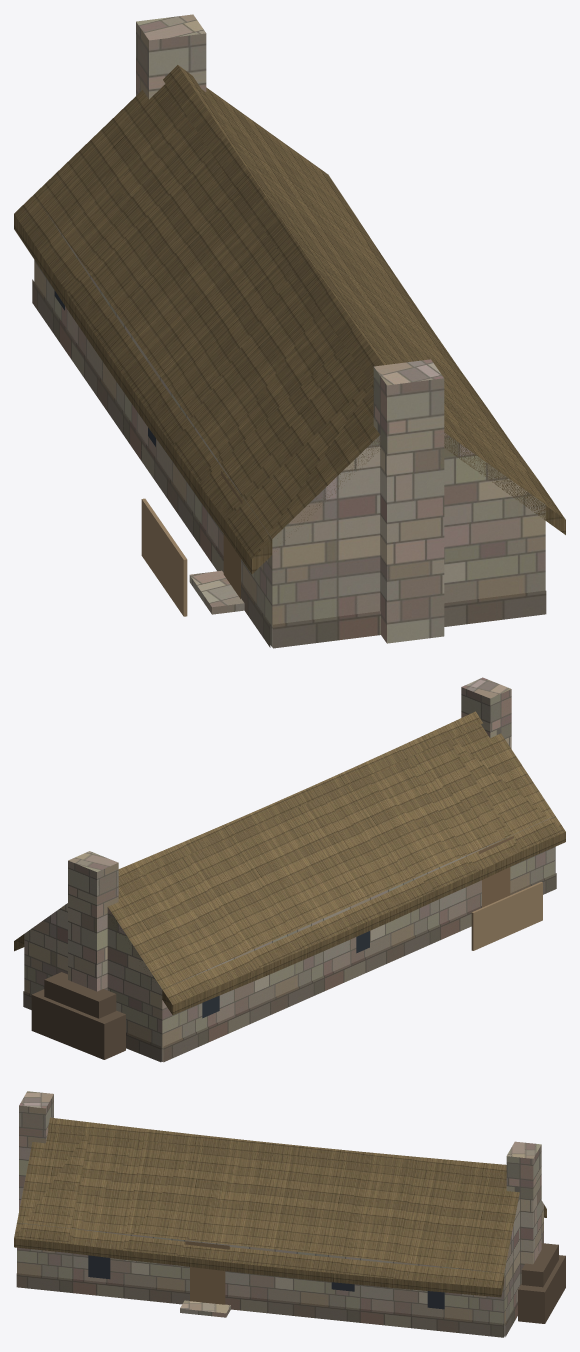
3 renders of one model, top to bottom at view 1: azimuth 30°, elevation 25°; view 2: azimuth 150°, elevation 25°; view 3: azimuth 270°, elevation 25°, orthographic. The views are drawn at different scales.
Parts seen in each view (by area): view 1: b001087_thatch, b001087_wall, b001087_base, b001087_wood, b001087_oak; view 2: b001087_thatch, b001087_wall, b001087_base, b001087_peat, b001087_wood, b001087_oak, b001087_glass; view 3: b001087_thatch, b001087_wall, b001087_base, b001087_peat, b001087_oak, b001087_glass.
Part boxes in pixels (x1,y1,x2,y2): b001087_thatch: [14, 65, 565, 574]; b001087_wall: [34, 14, 545, 647]; b001087_base: [32, 279, 546, 648]; b001087_wood: [141, 498, 187, 616]; b001087_oak: [221, 471, 242, 598]; b001087_thatch: [14, 711, 565, 1014]; b001087_wall: [24, 677, 555, 1061]; b001087_base: [23, 873, 556, 1062]; b001087_peat: [31, 972, 125, 1059]; b001087_wood: [471, 882, 542, 950]; b001087_oak: [478, 836, 513, 907]; b001087_glass: [202, 931, 369, 1018]; b001087_thatch: [14, 1117, 546, 1297]; b001087_wall: [17, 1091, 543, 1336]; b001087_base: [16, 1273, 517, 1337]; b001087_peat: [518, 1243, 565, 1323]; b001087_oak: [185, 1241, 229, 1304]; b001087_glass: [88, 1255, 444, 1309].
Size of the model in its own units: 8.62 by 4.55 by 14.92.
7 materials, 3 textured.
